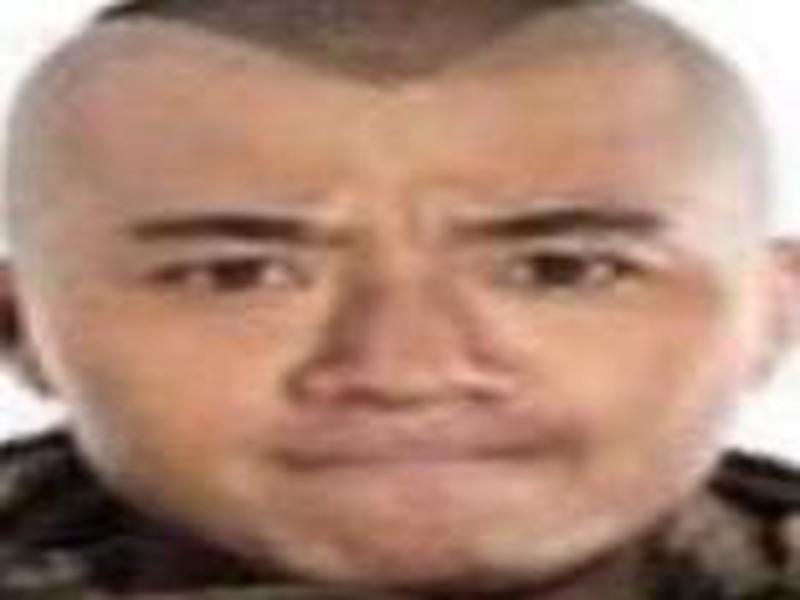without_mask: (17, 80, 751, 584)
